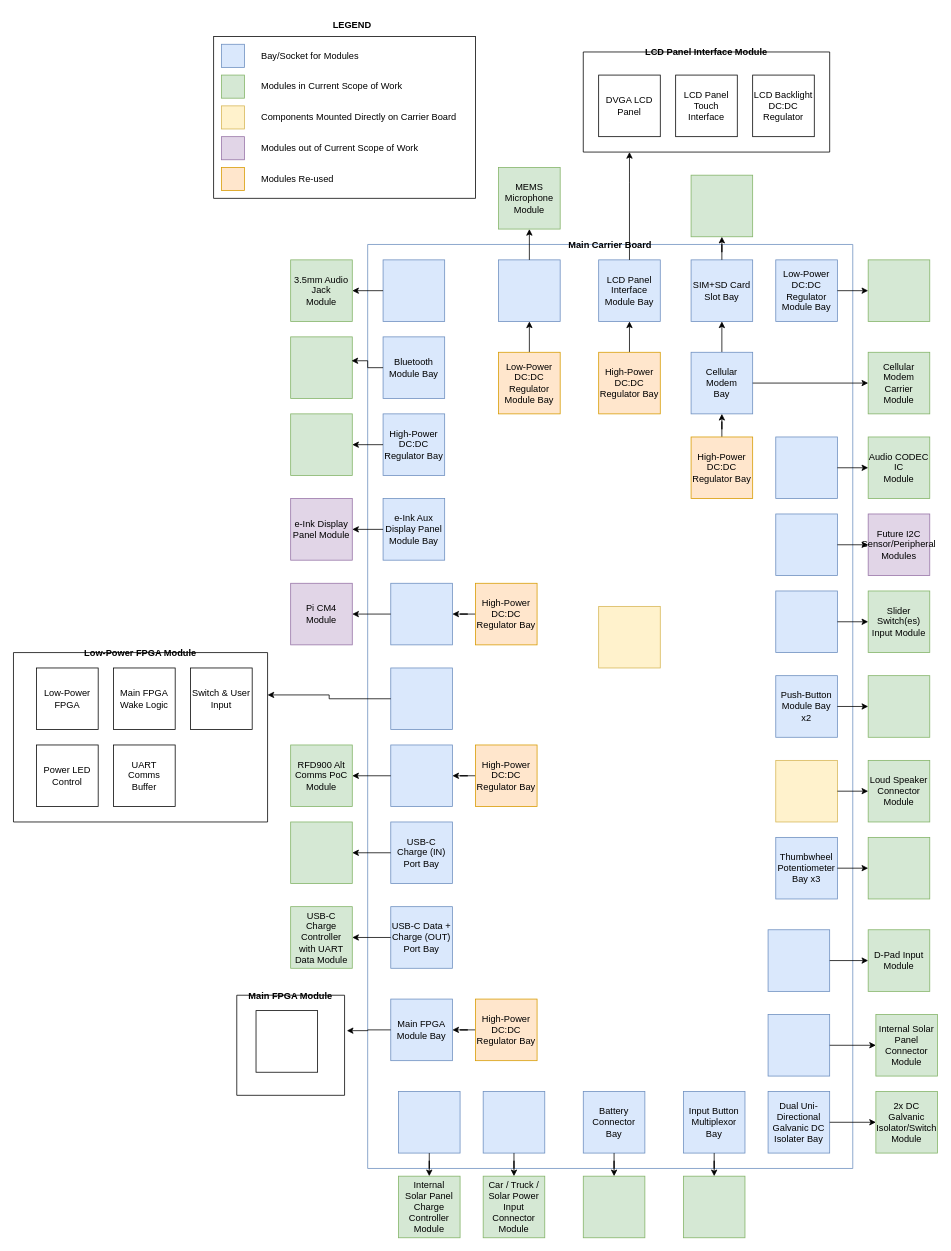
The diagram is 951 pixels wide and 1251 high, and some of its shapes have lost their labels. The shapes that lost their labels are listed below. From the top down, each one's centre as x and y in pixels, then its label:
point 721,205: SIM Card + SD Card Slot Module
point 413,290: 3.5mm Audio Jack Module Bay
point 529,290: MEMS Microphone Module Bay x4
point 898,290: Low-Power DC:DC Regulator Module
point 321,367: Bluetooth Interface Module
point 321,444: High-Power DC:DC Regulator Module
point 806,467: Audio Codec Module Bay
point 806,544: I2C Sensor / Peripheral Module Bay x2
point 421,614: Pi CM4 Module Bay
point 806,621: Slider Switch Bay x3
point 629,637: Power & Indicator LEDs
point 421,698: Low-Power FPGA Module Bay (fit FireAnt)
point 898,706: Push-Button Pair Input Module
point 421,775: Alt Comms Module Bay
point 806,791: Loud Speaker Connector
point 321,852: USB-C Charge (In) Port Module
point 898,868: Thumb-Wheel Potentiometer Module
point 798,960: D-Pad Input Module Bay
point 286,1041: TE0790 FPGA
point 798,1045: Internal Solar Connector Bay
point 429,1122: Internal Solar Charge Controller Bay
point 513,1122: Solar/Dirty DC Charge Controller Bay
point 614,1206: LiFePO4 Battery Connector Module
point 714,1206: Input Button I2C Multiplexor Module
